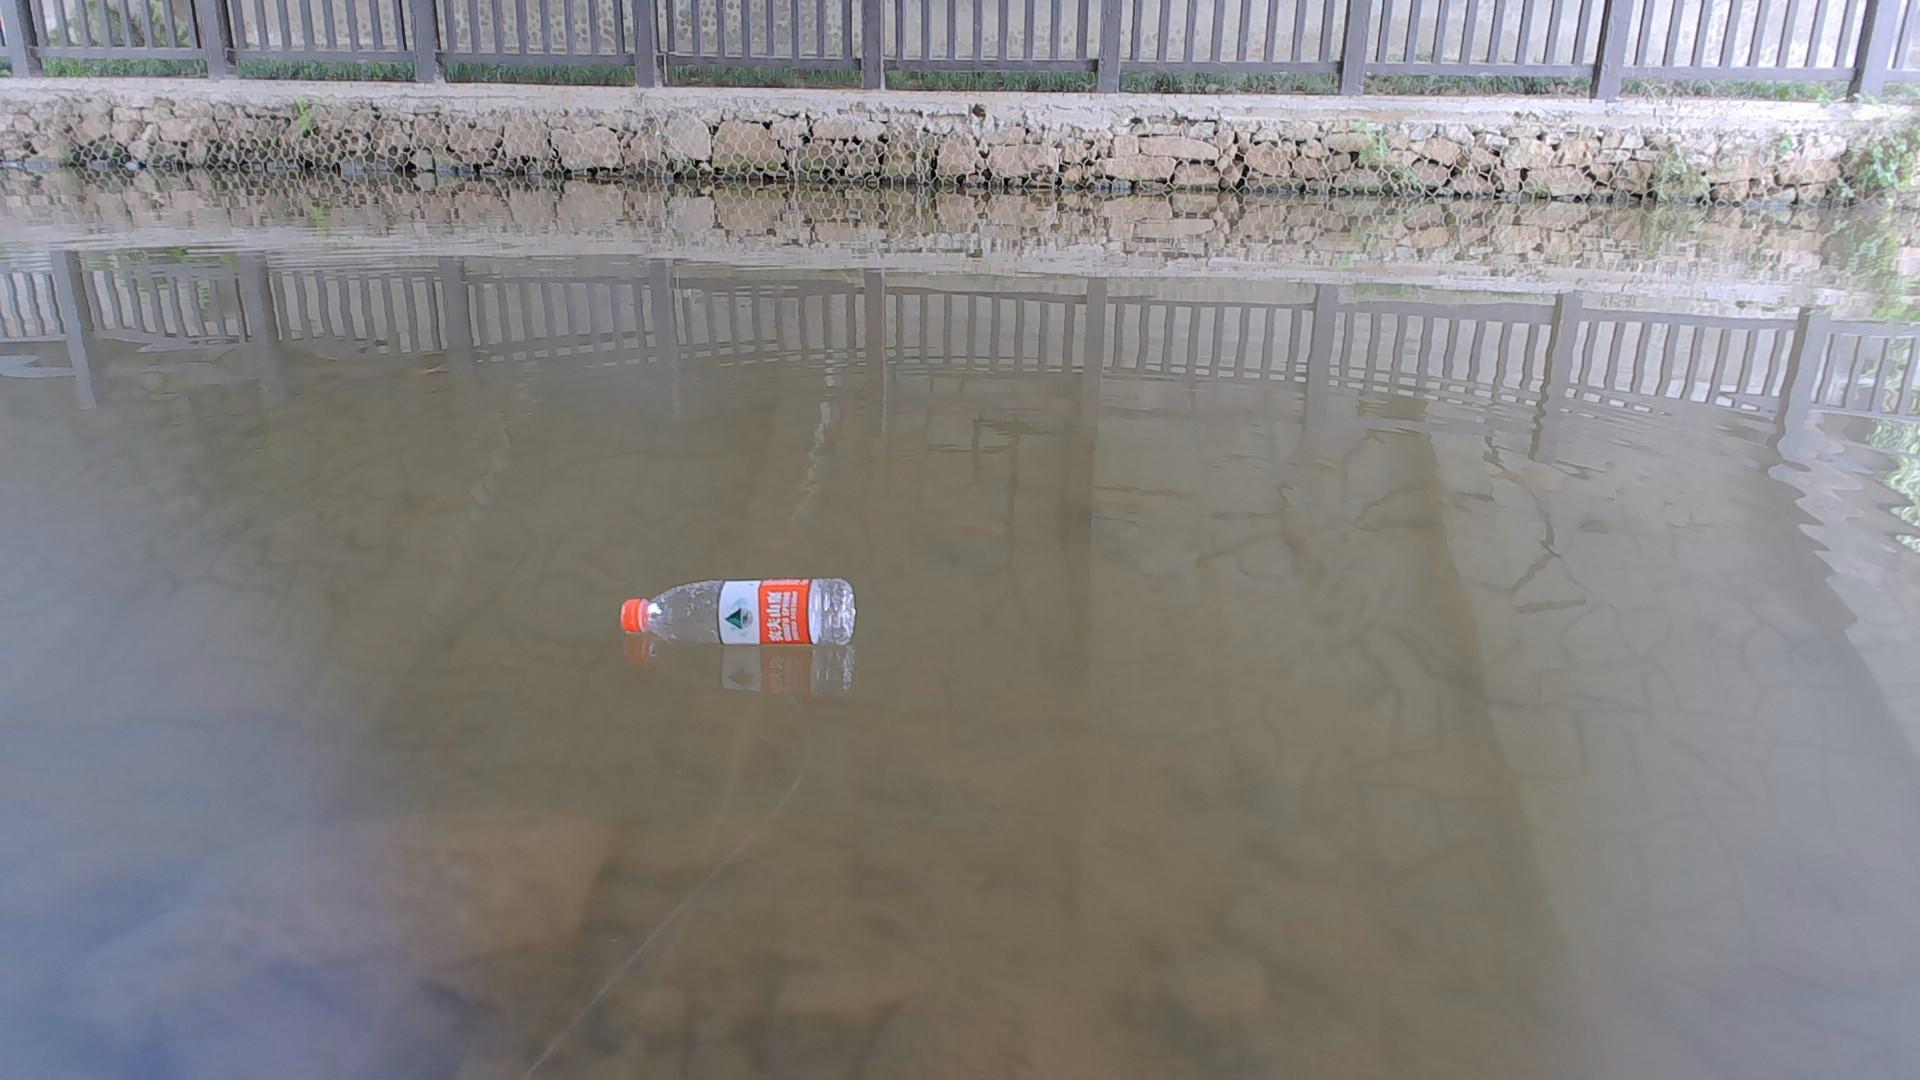Plastic: (611, 572, 861, 654)
